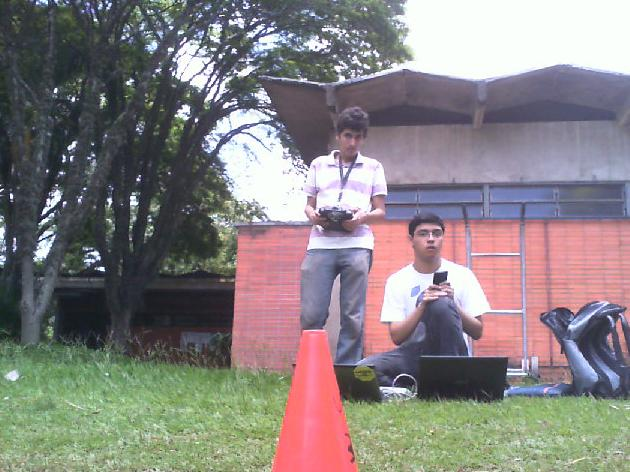0 cone: (267, 329, 360, 472)
